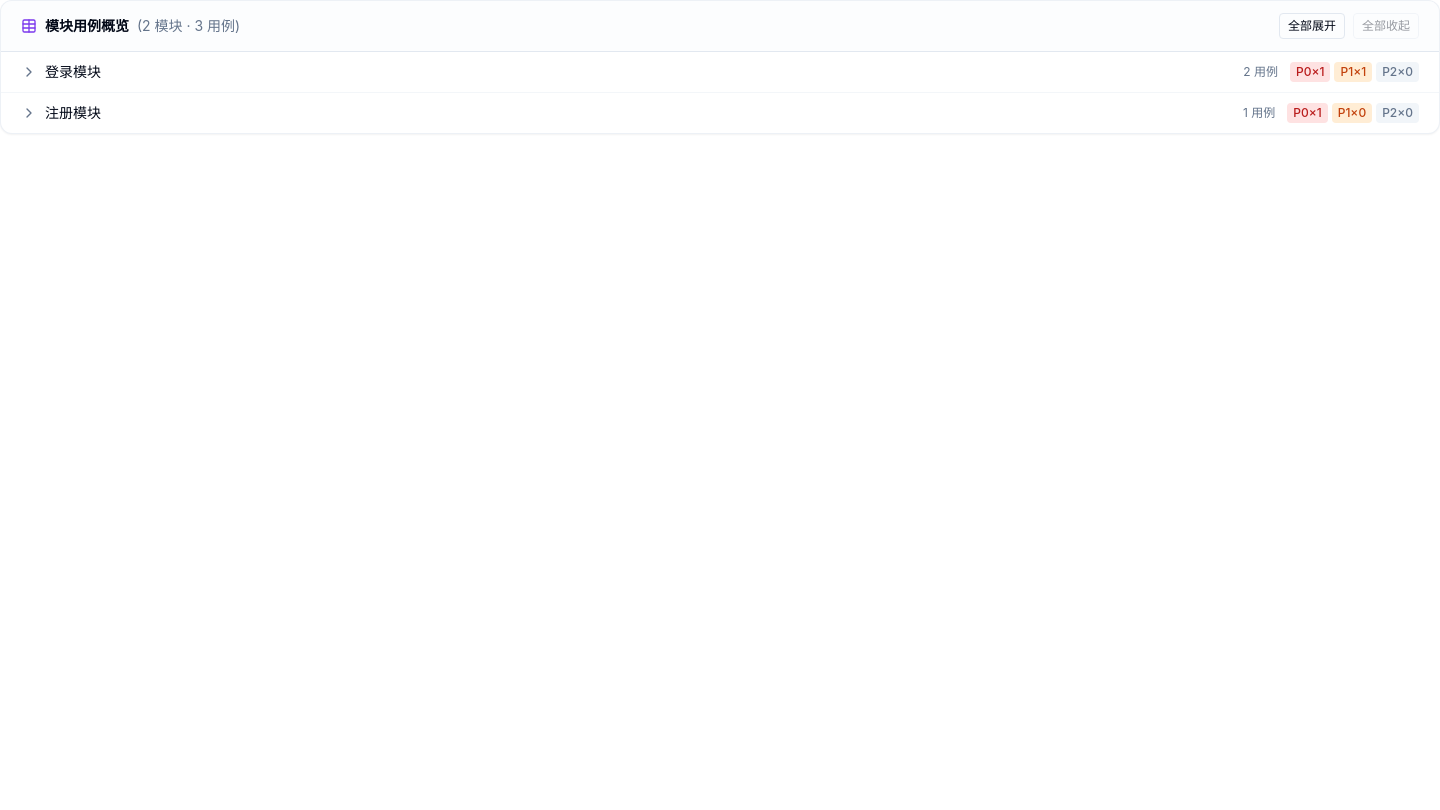
Test: ModuleOverviewTable › expands all modules on 全部展开 click
Step 1. Click the button "全部展开" → (1312, 26), box [1279,13,1345,39]
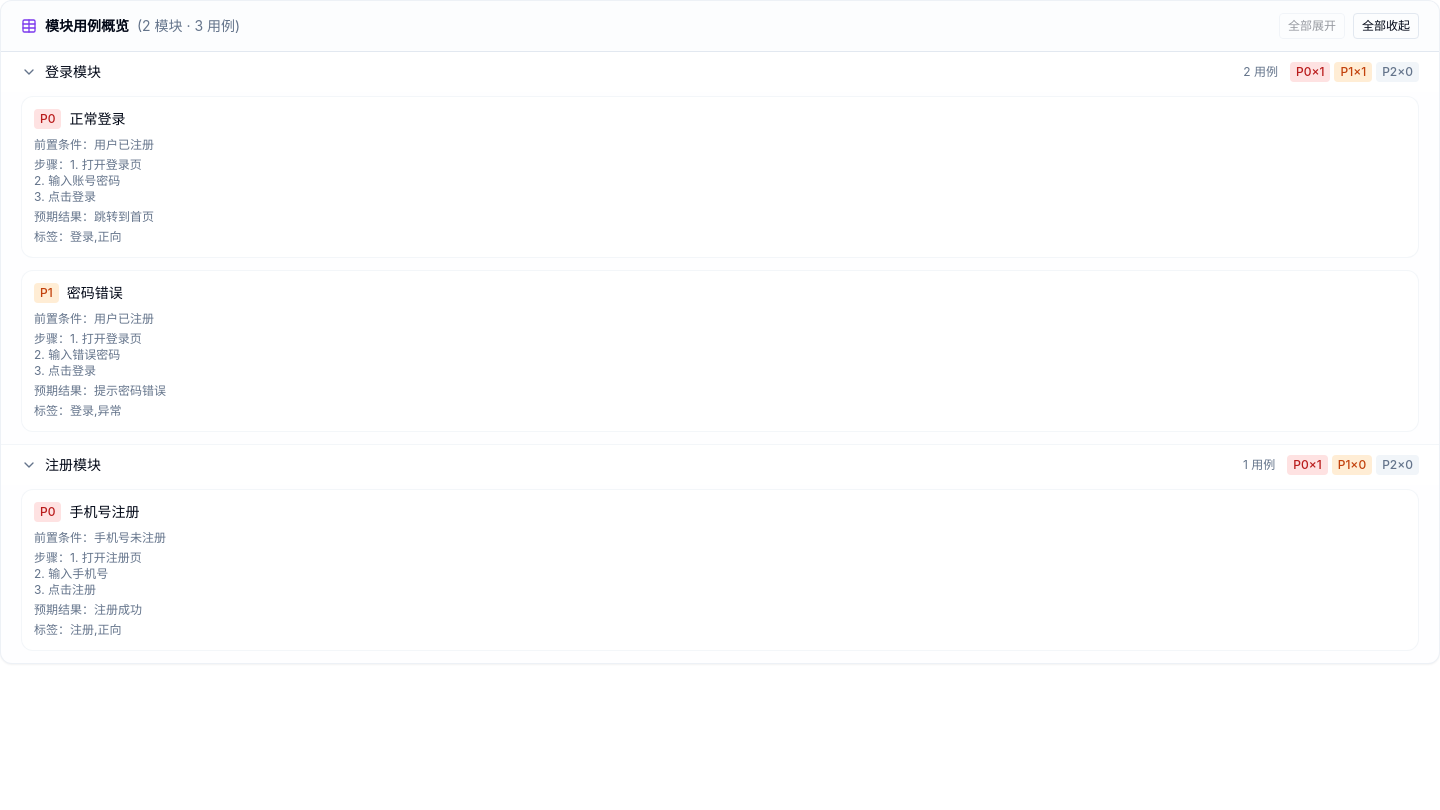
Expected: the text "正常登录" is shown, [70,109,126,129]
Expected: the text "手机号注册" is shown, [70,502,140,522]
